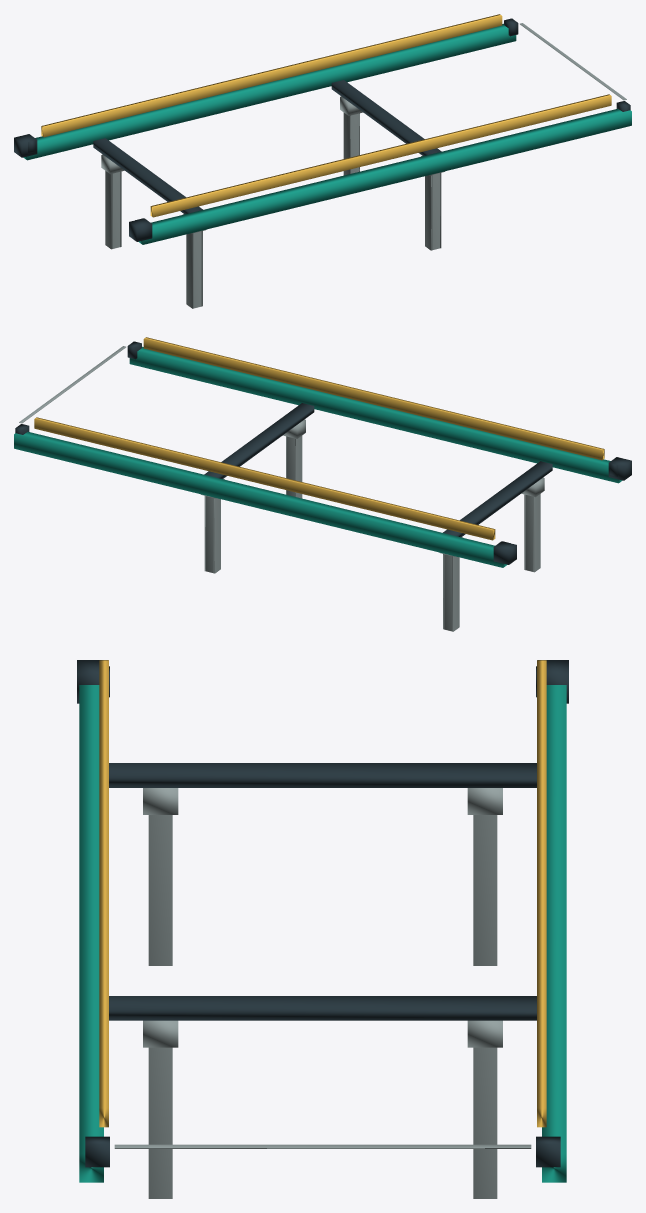
File: buffer_stage_2.dae
3 renders of one model, top to bottom at view 1: azimuth 30°, elevation 25°; view 2: azimuth 150°, elevation 25°; view 3: azimuth 270°, elevation 25°, orthographic. The views are drawn at different scales.
Parts seen in each view (by area): view 1: rail-1, rail1, guide1, guide-1, crossbar0.36, crossbar-0.42, guide_0_y-1, guide_1_y-1, guide_2_y-1, guide_1_x-1, guide_2_x-1, guide_0_x-1 (+2 smaller); view 2: rail1, rail-1, guide-1, guide1, crossbar0.36, crossbar-0.42, guide_1_y1, guide_0_y1, guide_3_y1, guide_0_x-1, guide_3_x-1, guide_1_x-1 (+2 smaller); view 3: crossbar-0.42, crossbar0.36, rail-1, rail1, guide-1, guide1, guide_0_x1, guide_1_x1, guide_2_x1, guide_3_x1, tail_deadplate, post_head_2 (+5 smaller).
Part boxes in pixels (<box>): rail-1: <box>138,108,631,244</box>; rail1: <box>23,23,516,160</box>; guide1: <box>41,14,502,137</box>; guide-1: <box>150,94,611,217</box>; crossbar0.36: <box>331,80,441,155</box>; crossbar-0.42: <box>93,138,202,214</box>; guide_0_y-1: <box>193,231,201,308</box>; guide_1_y-1: <box>112,172,120,248</box>; guide_2_y-1: <box>432,173,439,250</box>; guide_1_x-1: <box>105,171,112,249</box>; guide_2_x-1: <box>425,175,432,250</box>; guide_0_x-1: <box>186,233,193,308</box>; rail1: <box>14,431,507,567</box>; rail-1: <box>129,346,622,483</box>; guide-1: <box>143,337,604,460</box>; guide1: <box>34,417,495,540</box>; crossbar0.36: <box>204,403,314,478</box>; crossbar-0.42: <box>443,461,552,537</box>; guide_1_y1: <box>444,554,452,631</box>; guide_0_y1: <box>525,495,533,571</box>; guide_3_y1: <box>206,496,213,573</box>; guide_0_x-1: <box>533,494,540,572</box>; guide_3_x-1: <box>213,498,220,573</box>; guide_1_x-1: <box>452,556,459,631</box>; crossbar-0.42: <box>109,763,536,787</box>; crossbar0.36: <box>109,996,536,1020</box>; rail-1: <box>79,685,103,1182</box>; rail1: <box>542,685,566,1182</box>; guide-1: <box>99,660,108,1127</box>; guide1: <box>537,660,546,1127</box>; guide_0_x1: <box>148,815,172,965</box>; guide_1_x1: <box>473,815,497,965</box>; guide_2_x1: <box>148,1047,172,1198</box>; guide_3_x1: <box>473,1047,497,1198</box>; tail_deadplate: <box>114,1144,531,1148</box>; post_head_2: <box>143,1020,178,1047</box>.
Bounding box in the file's own units: 1.63 × 0.697 × 0.383.
